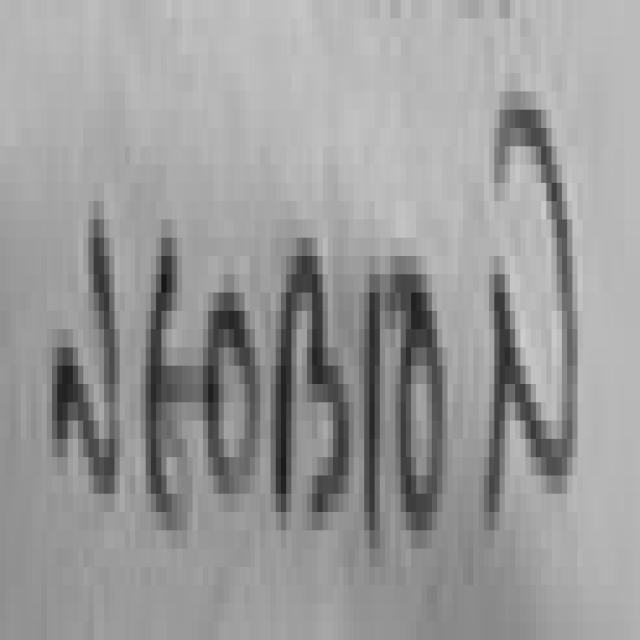B: (280, 256, 352, 515)
E: (147, 243, 194, 523)
I: (369, 293, 380, 521)
N: (489, 110, 578, 517), (57, 219, 117, 494)
O: (396, 291, 447, 530), (208, 293, 260, 494)
